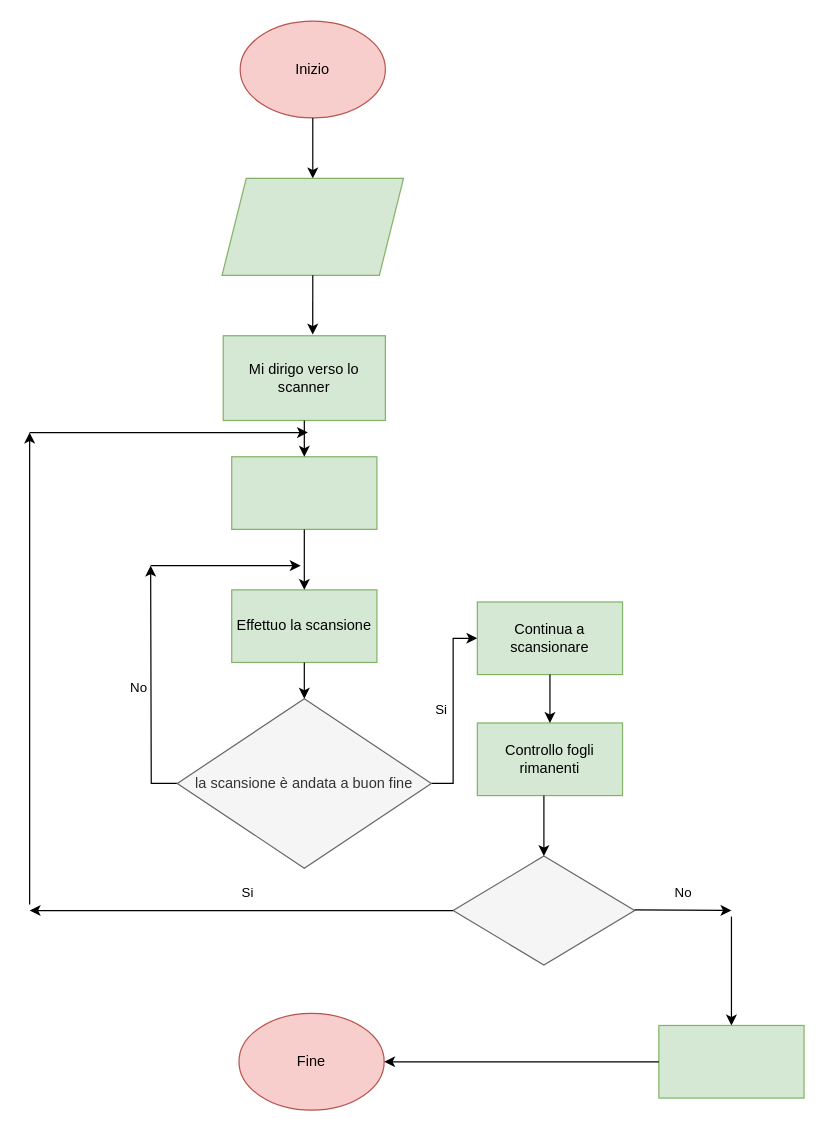
Image size: 825x1131. Some labels were removed from this diagram. The box of each missing label's shape, as (x1, y1, x2, y2) in pixels:
ci sono fogli rimanenti: (452, 855, 635, 965)
Poso la pratica sul tavolo: (658, 1024, 804, 1098)
Prendo la pratica: (221, 177, 404, 275)
Prendo un foglio: (231, 456, 377, 529)
